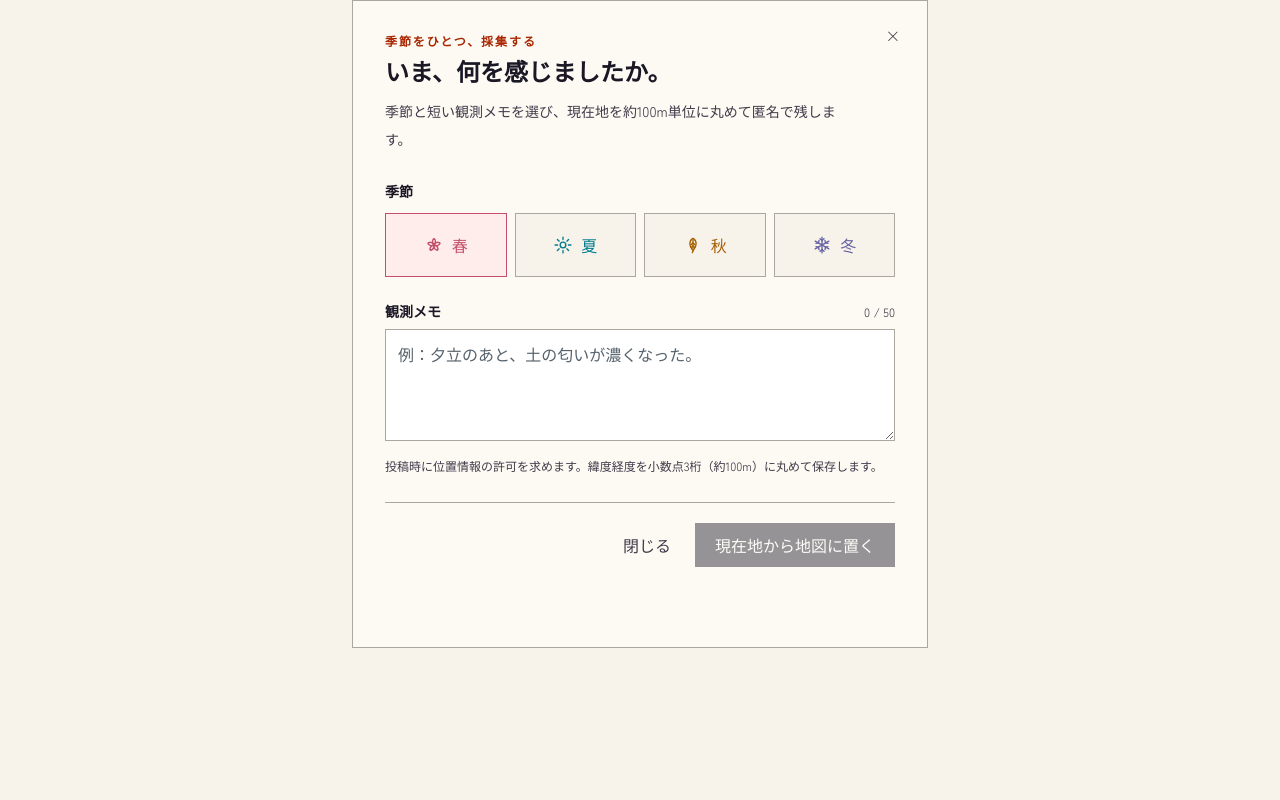
Test: PostPinForm › gets the current position and posts a seasonal observation
Click the button "秋".
click(705, 245)  # box 644,213 -> 766,277
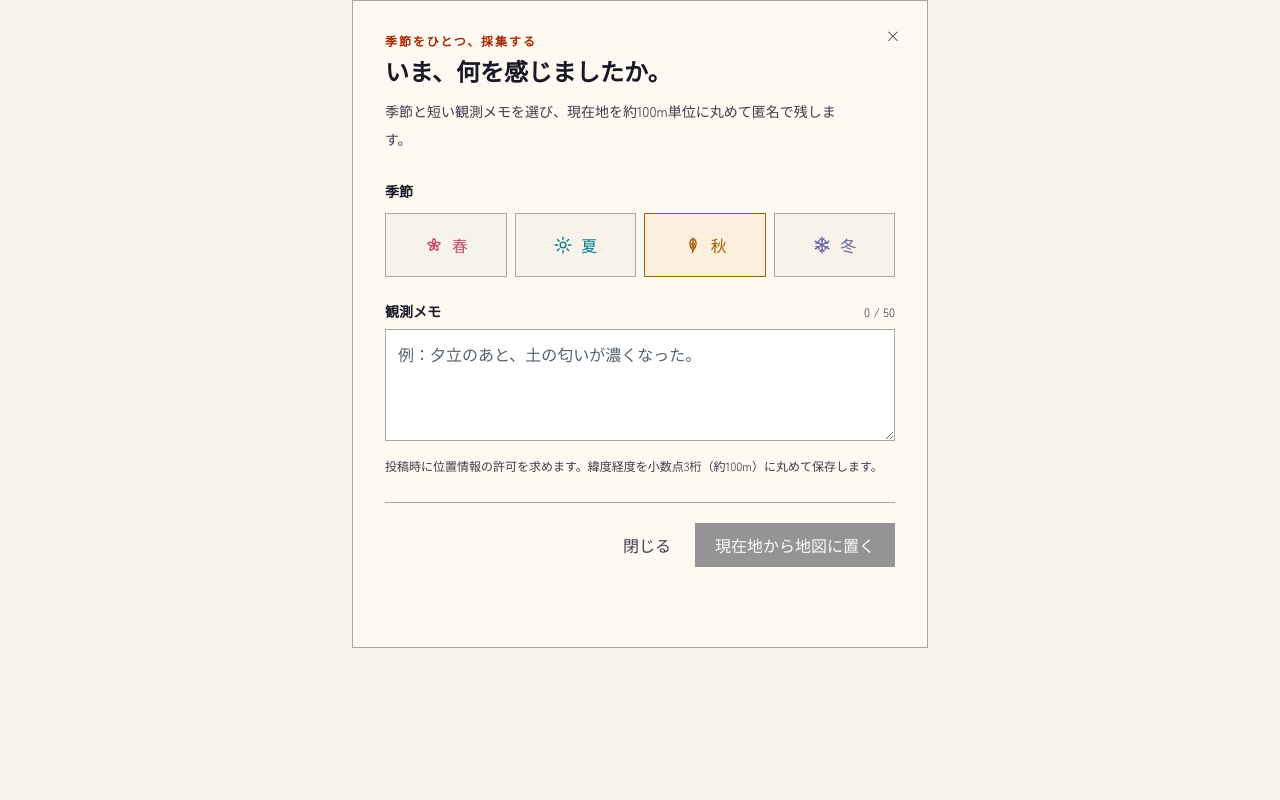
Type "葉の乾く音がした。" into the text box labelled "観測メモ".
click(640, 385); type("葉の乾く音がした。")  # box 385,329 -> 895,441
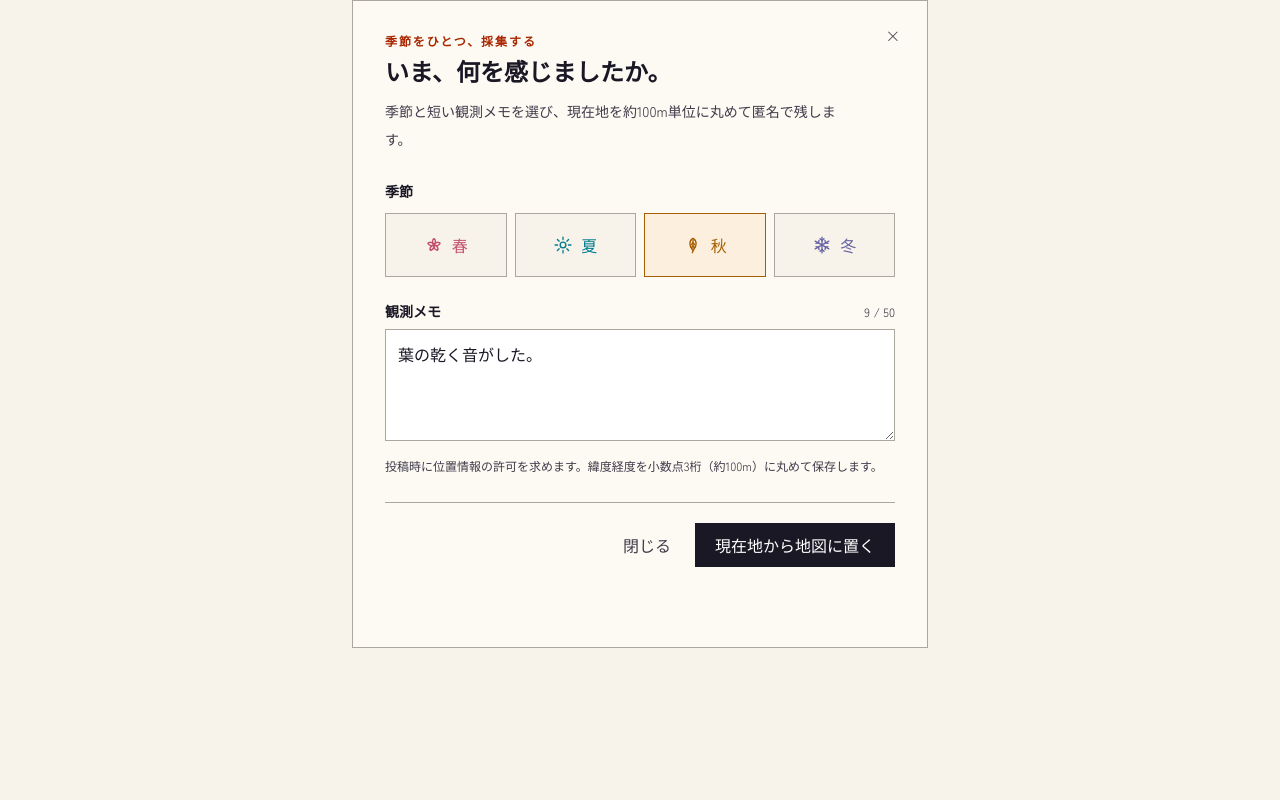
Click the button "現在地から地図に置く".
click(795, 545)  # box 695,523 -> 895,567
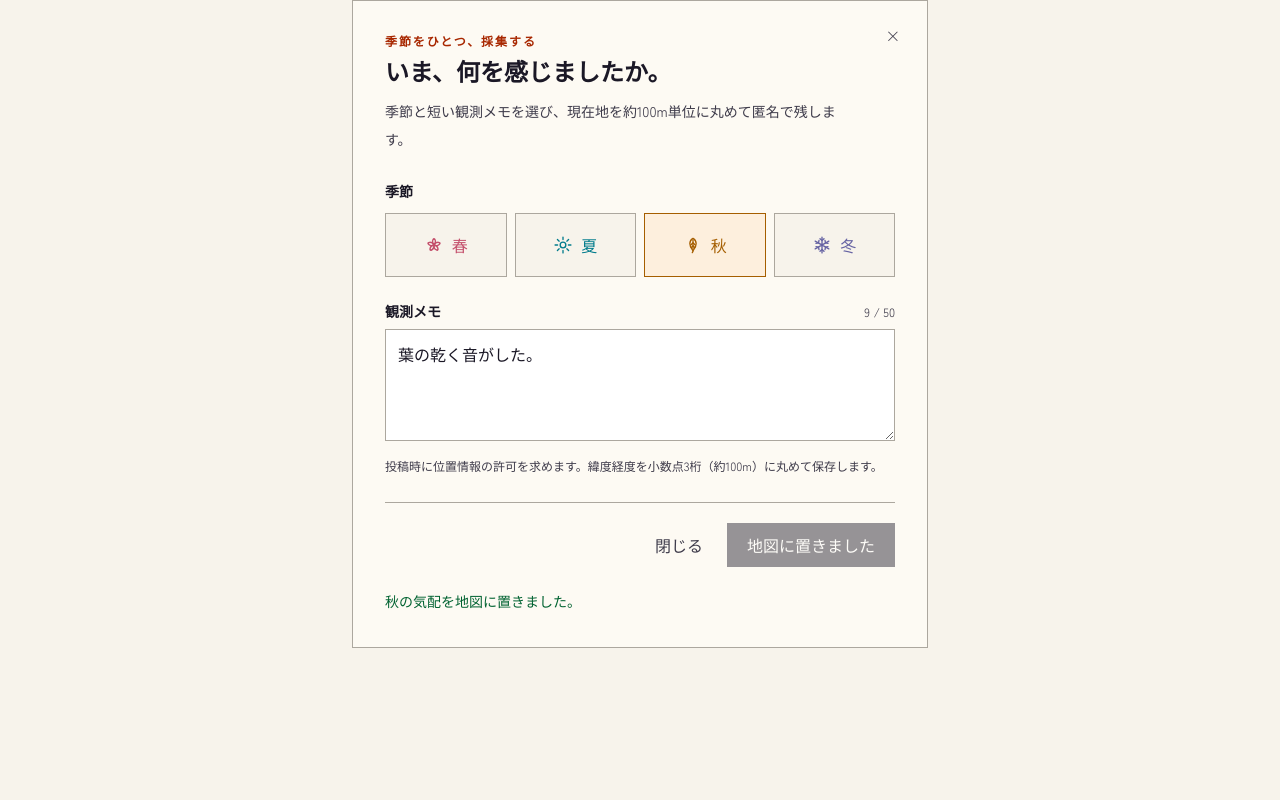
Check: the button "地図に置きました" is shown, box 727,523 -> 895,567
Check: the text "秋の気配を地図に置きました。" is shown, box 385,591 -> 581,611
